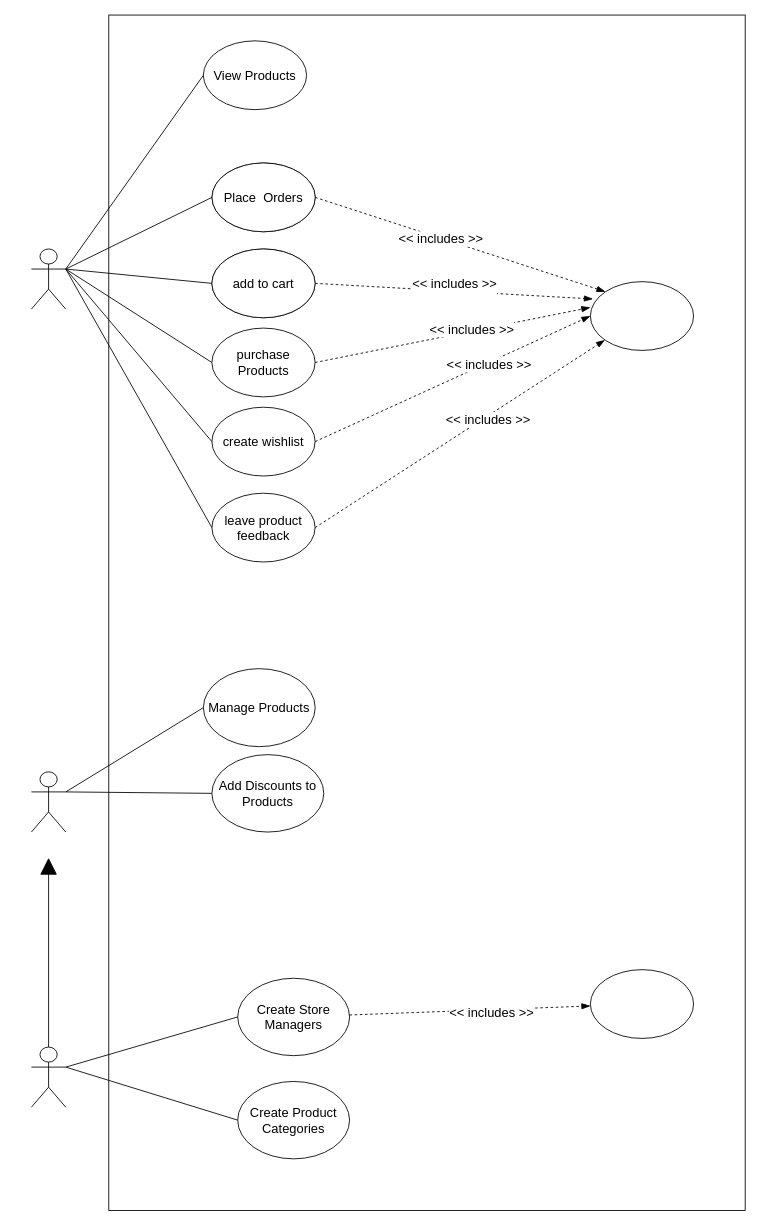
The diagram is 760 pixels wide and 1226 high, and some of its shapes have lost their labels. Each missing label, with the box of its shape:
Admin: (31, 1046, 66, 1107)
log in: (590, 281, 694, 350)
Notify Store Manager: (590, 969, 694, 1038)
Store Manager: (31, 771, 66, 832)
User: (31, 248, 66, 309)
